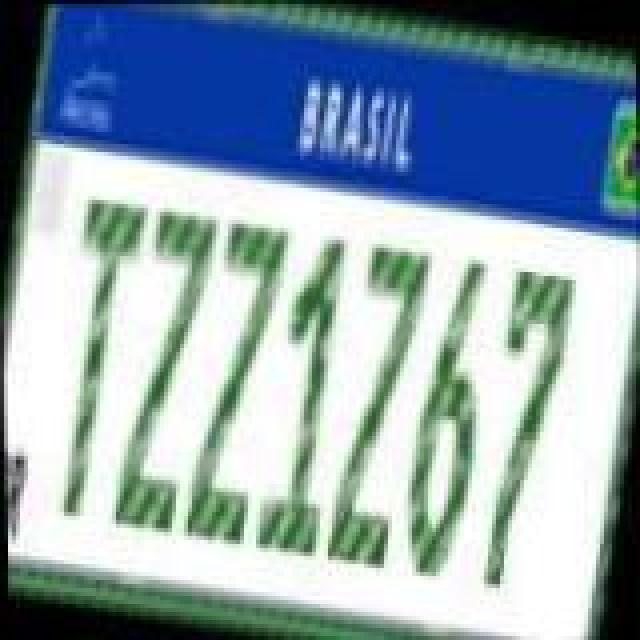1: (246, 224, 370, 564)
6: (388, 248, 508, 584)
7: (458, 262, 582, 602)
T: (28, 188, 152, 524)
Z: (100, 200, 224, 540), (174, 216, 298, 552), (316, 244, 436, 576)
